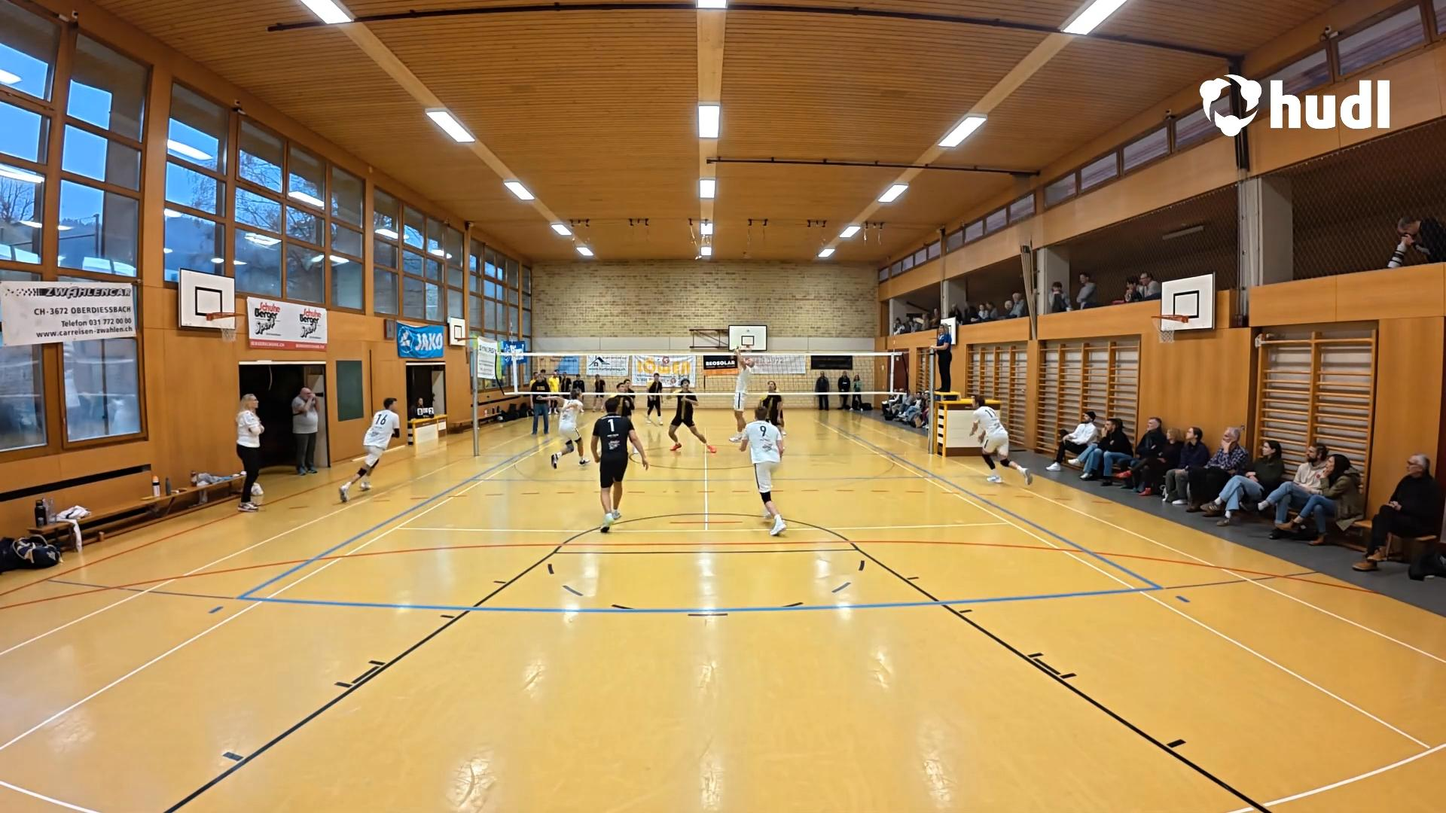alzata: (728, 343, 757, 444)
